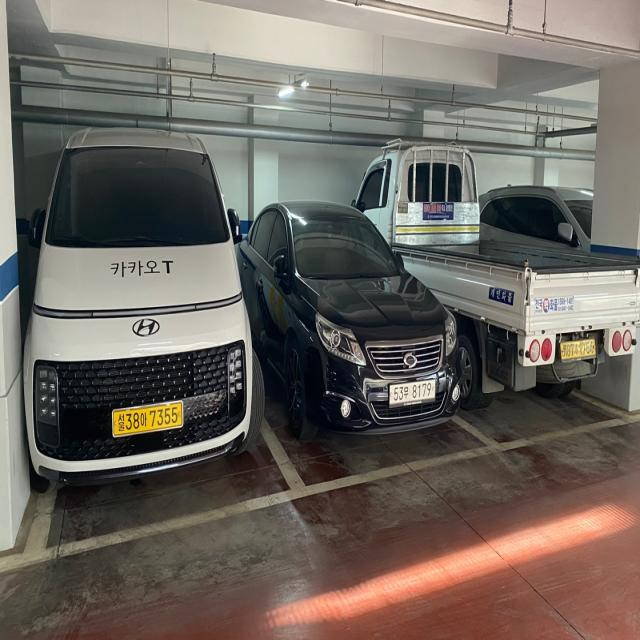occupied: (25, 125, 264, 476), (255, 199, 460, 436), (466, 199, 640, 420)
